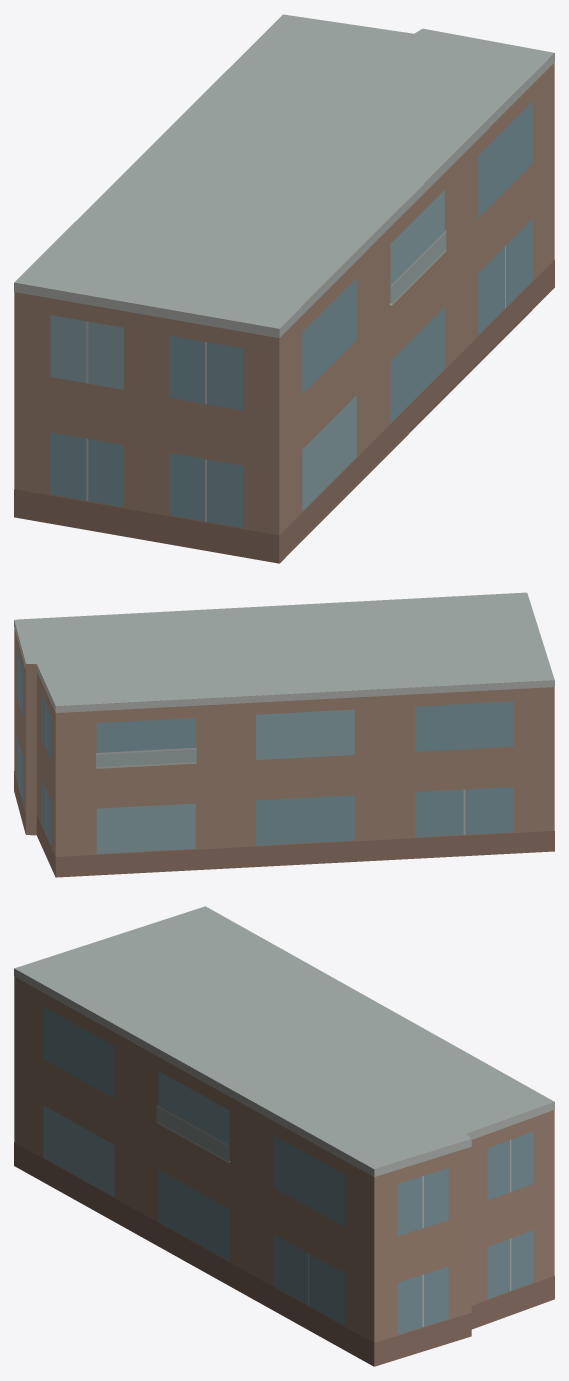
File: survey-upis-32590315.glb
The picture shows the model from 3 angles, top to bottom: view 1: azimuth 30°, elevation 25°; view 2: azimuth 150°, elevation 25°; view 3: azimuth 270°, elevation 25°; orthographic projection. The views are drawn at different scales.
Visible parts, largest first — view 1: survey-upis-32590315.tmp; view 2: survey-upis-32590315.tmp; view 3: survey-upis-32590315.tmp.
Part boxes in pixels (bbox=[...]): survey-upis-32590315.tmp: bbox=[14, 14, 554, 563]; survey-upis-32590315.tmp: bbox=[14, 592, 554, 877]; survey-upis-32590315.tmp: bbox=[14, 906, 554, 1366].
Bounding box in the file's own units: 17.44 × 6.1 × 15.15.
